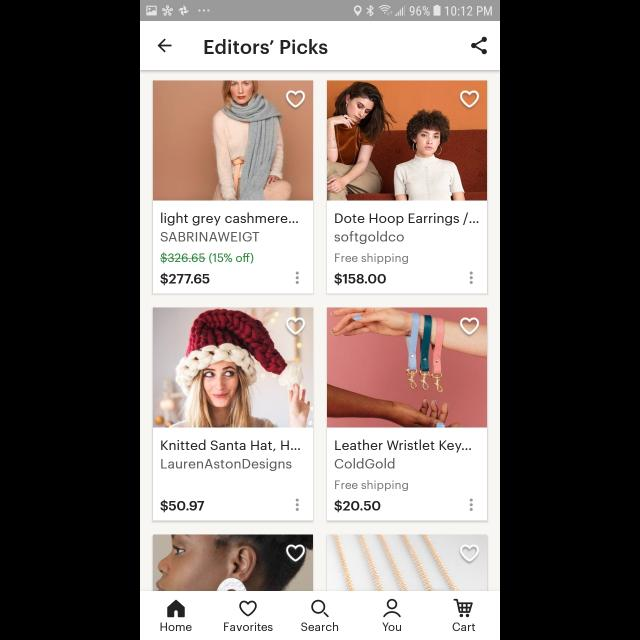icon: (286, 544, 306, 562), (460, 544, 480, 562), (383, 598, 401, 618), (460, 91, 480, 109), (453, 599, 472, 617), (459, 317, 478, 335), (311, 599, 329, 617), (167, 599, 185, 617), (286, 92, 306, 108), (239, 600, 257, 616), (287, 318, 305, 334), (471, 37, 487, 55), (158, 39, 172, 53), (469, 272, 473, 284), (296, 499, 300, 511), (296, 272, 300, 284), (470, 499, 472, 511)
image: (327, 308, 487, 428), (154, 308, 314, 428), (327, 81, 487, 201), (154, 81, 314, 201), (153, 535, 313, 591), (328, 535, 487, 591)
text: (335, 212, 479, 244), (334, 439, 472, 469), (162, 440, 300, 470), (162, 212, 298, 242), (205, 40, 328, 54), (160, 252, 254, 264), (336, 480, 408, 492), (336, 252, 408, 264), (334, 272, 386, 286), (162, 274, 210, 286), (335, 500, 381, 512), (161, 500, 205, 512), (224, 622, 272, 632), (302, 622, 338, 632), (162, 622, 192, 630), (382, 622, 402, 632), (453, 623, 475, 631)
uppertaskbar: (140, 1, 500, 22)
